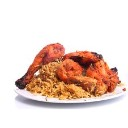briyani: (17, 41, 121, 95)
